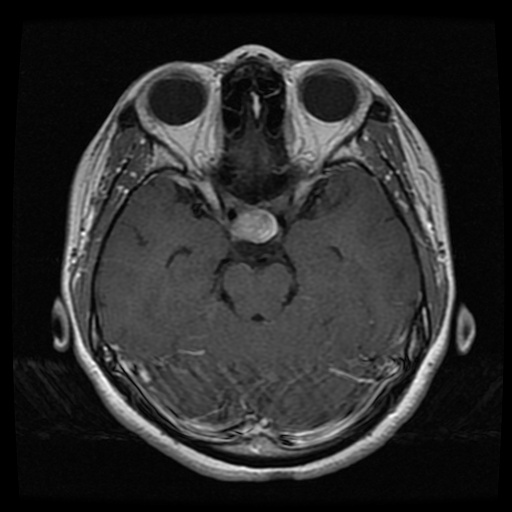pituitary: (229, 208, 278, 242)
